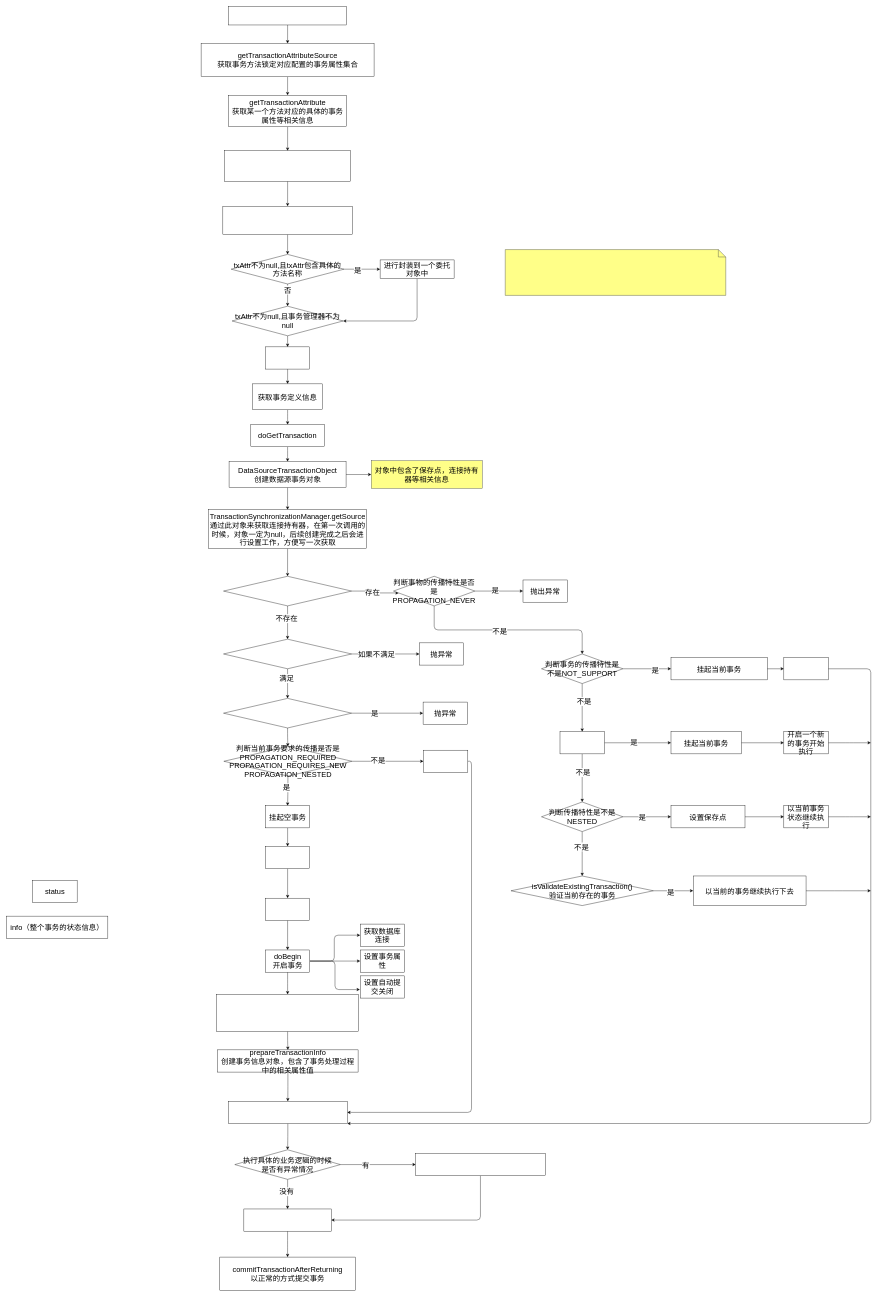
This 880x1297 diagram has some shape labels left out. Each missing label, with the box of its shape:
cleanupTransactionInfo 清除事务细信息: (243, 1209, 331, 1231)
completeTransactionAfterThrowing 完成当前事务回滚: (415, 1153, 545, 1176)
createTransactionIfNecessary 创建事务: (222, 206, 352, 234)
determineTransactionManager 获取事务管理器: (224, 150, 351, 181)
getTransaction 获取事务: (265, 347, 310, 369)
invocation.proceedWithInvocation() 执行方法的具体处理逻辑: (228, 1101, 347, 1124)
invokeWithinTracnsaction 开始事务处理逻辑: (228, 6, 347, 25)
isExistingTransaction 判断是否已经存在一个事务: (223, 576, 352, 606)
prepareTransactionInfo 创建事务信息对象，包含了事务处理过程中相关的属性值: (216, 994, 359, 1031)
以非事务状态开始运行: (783, 657, 828, 680)
创建一个空的事务: (423, 750, 468, 772)
创建新事务的状态对象: (265, 898, 310, 920)
判断事务超时属性: (223, 639, 352, 669)
判断当前事务要求的传播是否是 PROPAGATION_ MANDATORY: (223, 698, 352, 728)
判断是不是REQUIRED_NEW: (560, 731, 604, 754)
如果一个事务方法调用了另一个事务方法，那么是需要进行传播特性的判断，因为传播特性会影响到事物的提交和回滚: (505, 249, 726, 295)
开始事务 startTransaction: (265, 846, 310, 869)
